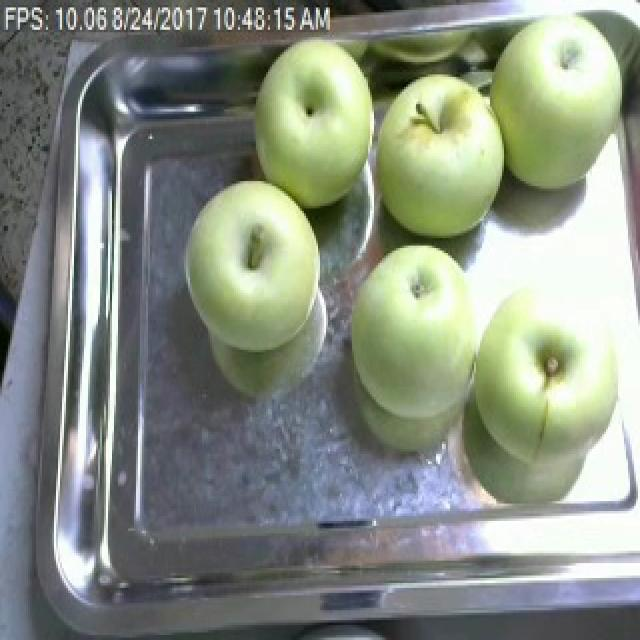50-_ripeness: (475, 284, 622, 468), (184, 177, 324, 353), (353, 236, 481, 428), (492, 15, 624, 196), (379, 76, 506, 240), (260, 39, 370, 198)
